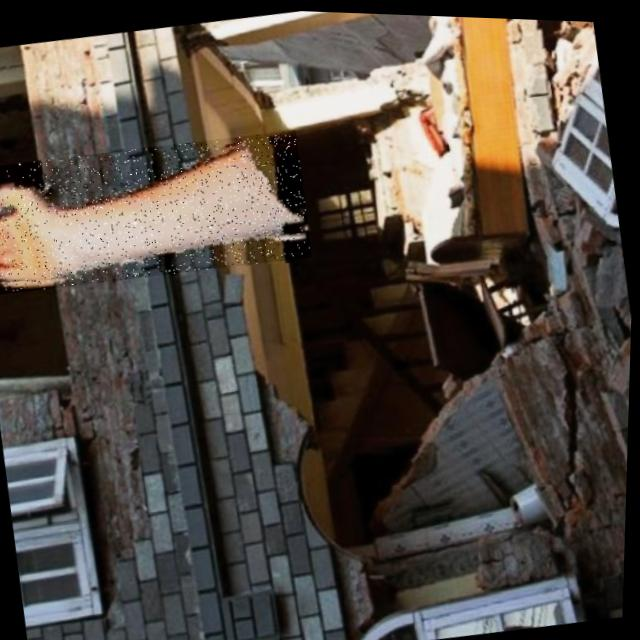Person in Rubble: (0, 118, 316, 304)
